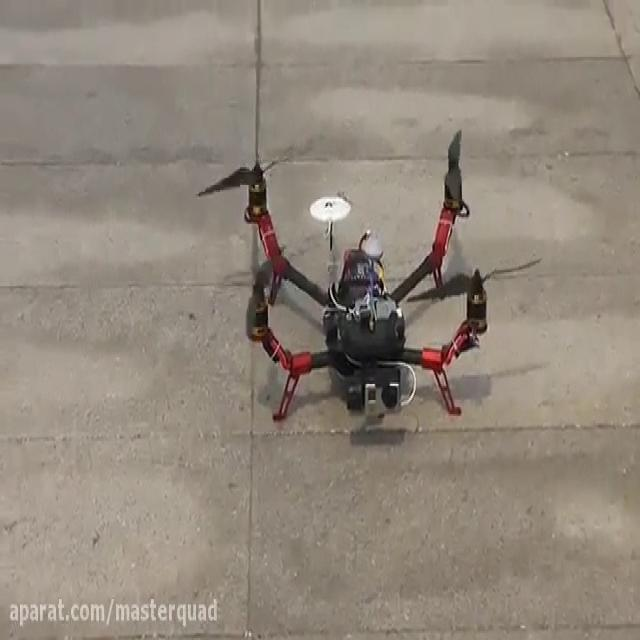drone: (194, 126, 544, 427)
